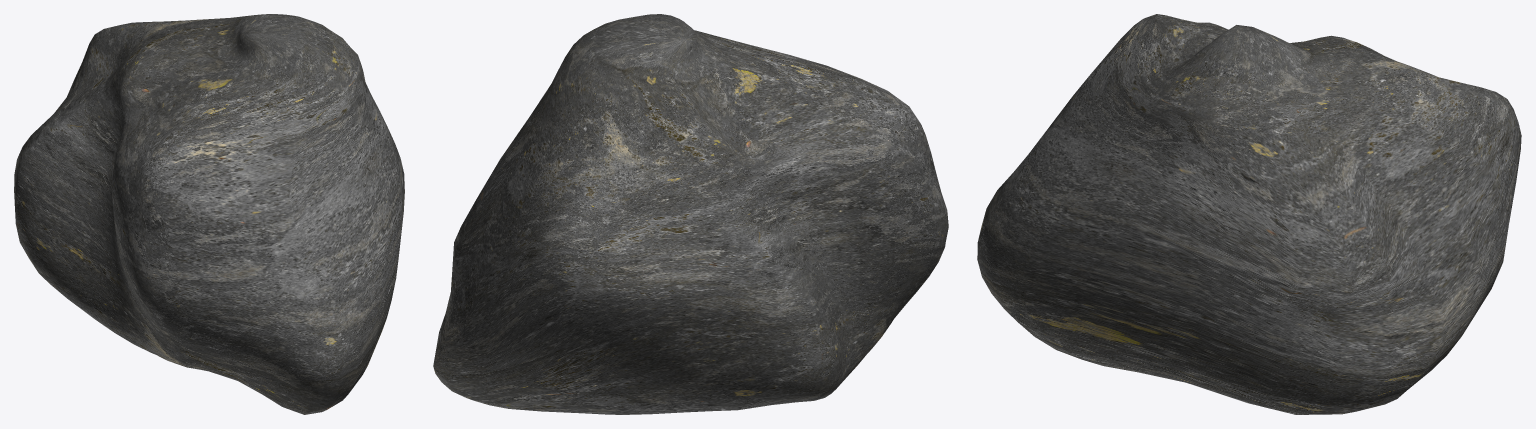
The model's file is BigAsteroid1.fbx.
3 views of the same model, side by side, from view 1: azimuth 30°, elevation 25°; view 2: azimuth 150°, elevation 25°; view 3: azimuth 270°, elevation 25° (orthographic). The views are drawn at different scales.
Parts seen in each view (by area): view 1: Sphere; view 2: Sphere; view 3: Sphere.
Boxes of the visible parts, x1,y1,x2,y2 form: Sphere: [14, 14, 404, 414]; Sphere: [433, 14, 948, 414]; Sphere: [977, 14, 1521, 414].
Bounding box in the file's own units: 76.73 × 70.26 × 104.
Materials: 1 (1 with a texture image).
